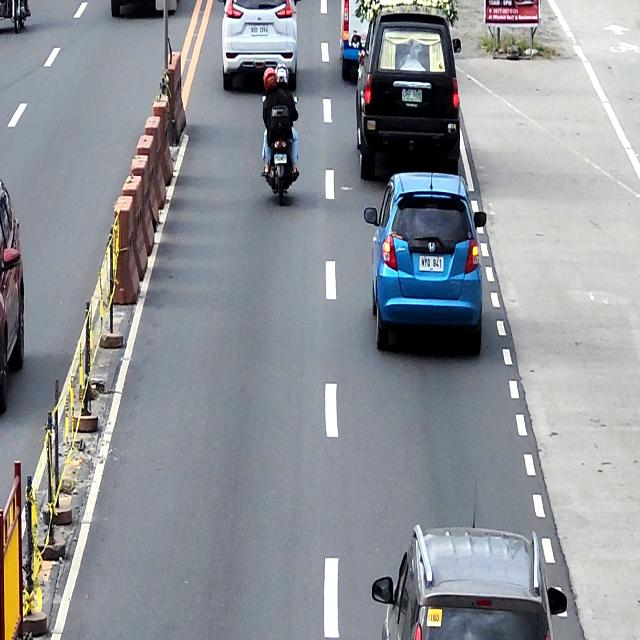Car: (371, 524, 568, 640), (364, 171, 486, 354), (355, 9, 462, 180), (218, 0, 299, 91), (0, 178, 25, 413)
License-Plate: (419, 255, 445, 272), (402, 88, 422, 103), (250, 23, 269, 36), (274, 153, 288, 164)
Motorcycle: (262, 94, 300, 205)
